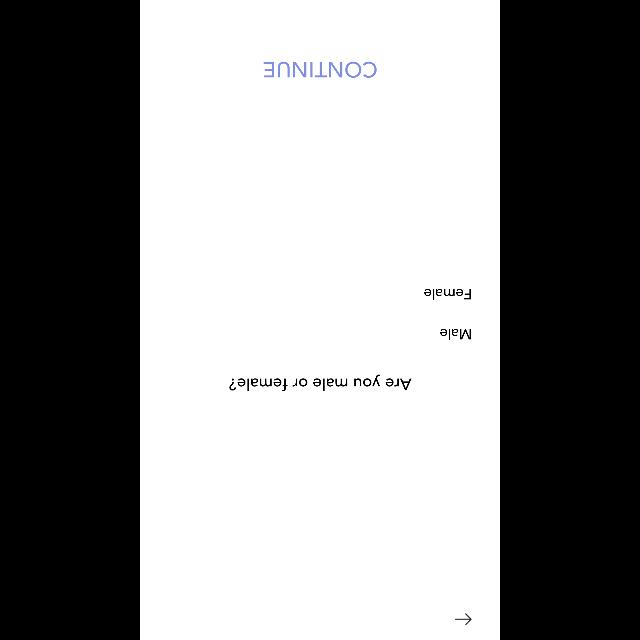icon: (454, 613, 472, 625)
text: (229, 375, 411, 391), (264, 62, 376, 78), (424, 288, 470, 300), (440, 328, 470, 339)
